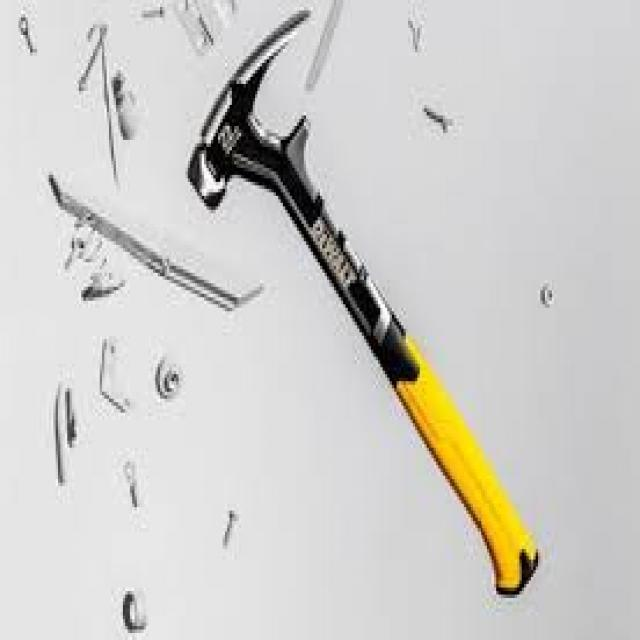hammer: (183, 4, 550, 605)
